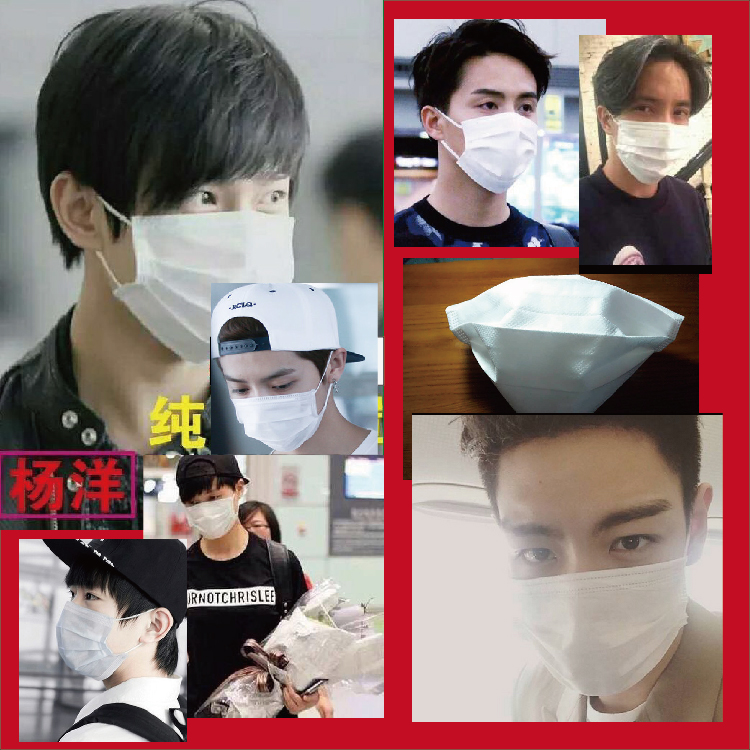face: (241, 513, 267, 543)
face_mask: (495, 423, 689, 696), (117, 110, 296, 350), (443, 55, 539, 183), (223, 343, 320, 452), (612, 65, 695, 174), (60, 568, 137, 674), (187, 480, 236, 537)
